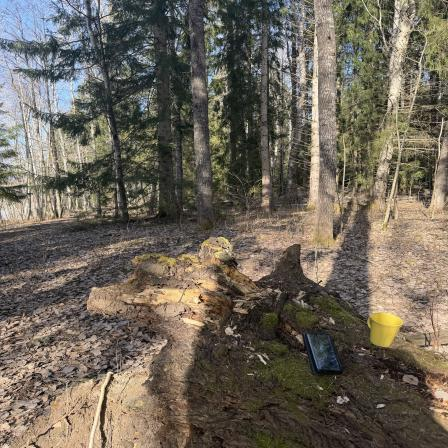phone: (301, 330, 346, 378)
yellow_cup: (368, 309, 406, 349)
